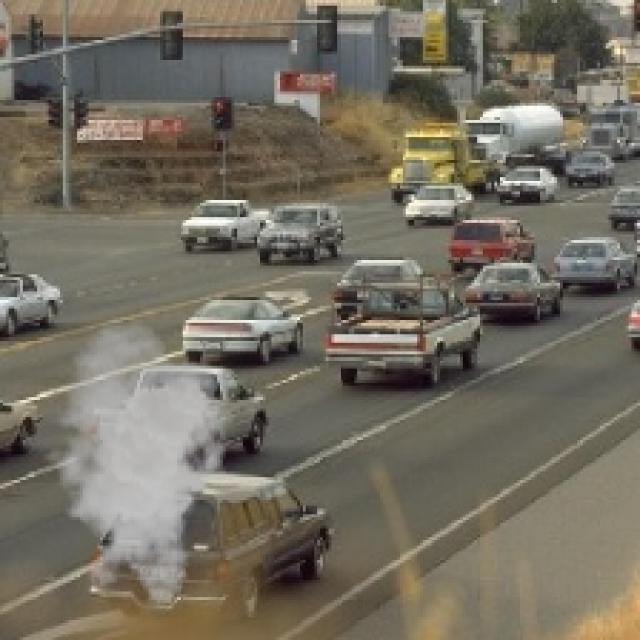smoke: (34, 320, 234, 603)
